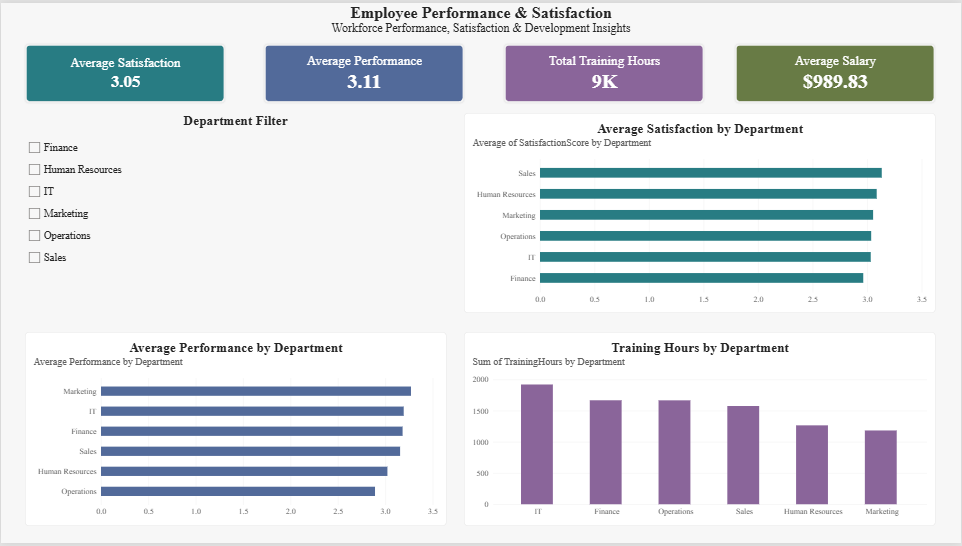

The page's visual inventory and layout, read from the dashboard file:
{"tool":"powerbi","page":{"name":"Employee Performance & Satisfaction","canvas":[1920,1080],"ordinal":2},"visuals":[{"type":"cardVisual","fields":{"Data":["Employees.Average Satisfaction"]},"box":[47.5,82.5,400,117.5],"z":0},{"type":"cardVisual","fields":{"Data":["Employees.Average Performance"]},"box":[525,82.5,400,117.5],"z":1},{"type":"cardVisual","fields":{"Data":["Employees.Total Training Hours"]},"box":[1005,82.5,400,117.5],"z":2},{"type":"cardVisual","fields":{"Data":["Employees.Average Salary"]},"box":[1467.5,82.5,400,117.5],"z":3},{"type":"textbox","box":[0,0,1920,82.5],"z":4},{"type":"clusteredBarChart","title":"Average Satisfaction by Department","fields":{"Category":["Employees.Department"],"Y":["Avg(Employees.SatisfactionScore)"]},"box":[925,220,942.5,400],"z":5},{"type":"clusteredBarChart","title":"Average Performance by Department","fields":{"Category":["Employees.Department"],"Y":["Employees.Average Performance"]},"box":[47.5,657.5,842.5,387.5],"z":6},{"type":"clusteredColumnChart","title":"Training Hours by Department","fields":{"Category":["Employees.Department"],"Y":["Sum(Employees.TrainingHours)"]},"box":[925,657.5,942.5,387.5],"z":7},{"type":"slicer","title":"Department Filter","fields":{"Values":["Employees.Department"]},"box":[47.5,220,842.5,400],"z":8}]}

Visuals, with their boxes in screenshot pixels (x1, y1, x2, y2), scaled from the page's 1920x1080 canvas onto the 962x546 screenshot:
cardVisual - Employees.Average Satisfaction: box(24, 42, 224, 101)
cardVisual - Employees.Average Performance: box(263, 42, 463, 101)
cardVisual - Employees.Total Training Hours: box(504, 42, 704, 101)
cardVisual - Employees.Average Salary: box(735, 42, 936, 101)
textbox: box(0, 0, 961, 42)
"Average Satisfaction by Department" clusteredBarChart: box(463, 111, 936, 313)
"Average Performance by Department" clusteredBarChart: box(24, 332, 446, 528)
"Training Hours by Department" clusteredColumnChart: box(463, 332, 936, 528)
"Department Filter" slicer: box(24, 111, 446, 313)
